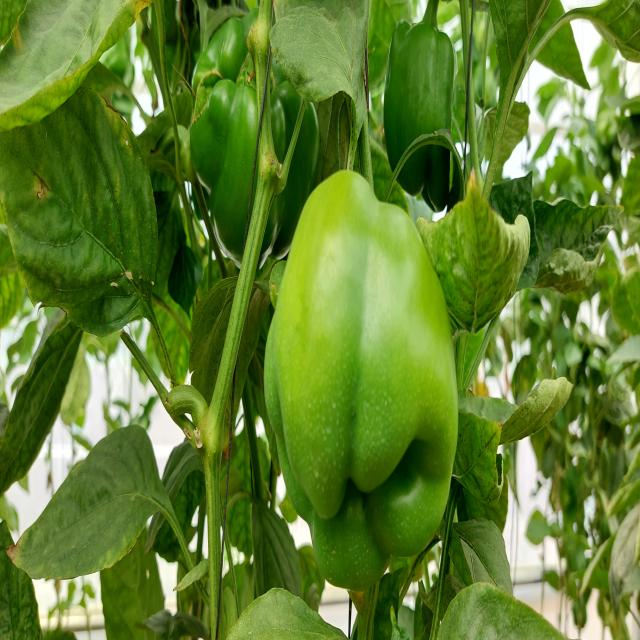Green--Not-ready-to-harvest: (259, 187, 457, 590), (192, 28, 306, 236), (382, 25, 461, 175)
